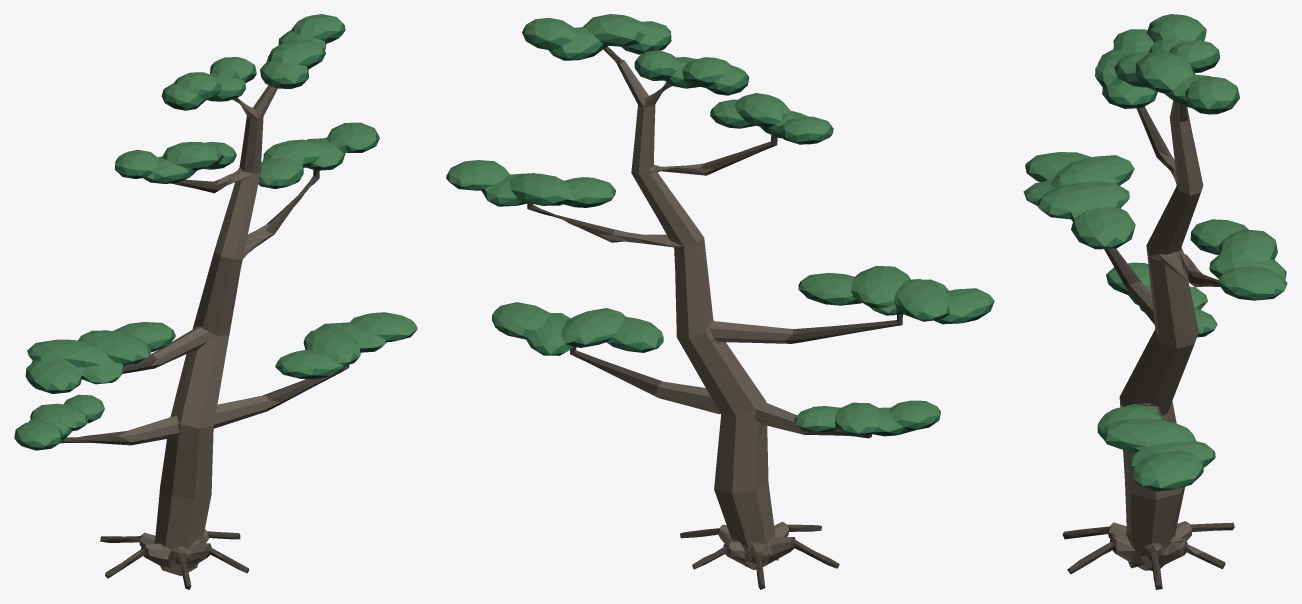
The model's file is ancient-pine-4128-lod0.glb.
The picture shows the model from 3 angles, left to right: view 1: azimuth 30°, elevation 25°; view 2: azimuth 150°, elevation 25°; view 3: azimuth 270°, elevation 25°; orthographic projection. The views are drawn at different scales.
Visible parts, largest first — view 1: n12.004, n8.004, n11.004, n9.004, n10.004; view 2: n12.004, n8.004, n11.004, n9.004, n10.004; view 3: n12.004, n8.004, n11.004, n9.004, n10.004.
Boxes of the visible parts, <box> form: n12.004: <box>16,14,417,445</box>; n8.004: <box>116,85,280,575</box>; n11.004: <box>14,23,415,448</box>; n9.004: <box>60,97,349,589</box>; n10.004: <box>16,33,417,450</box>; n12.004: <box>446,14,994,433</box>; n8.004: <box>594,61,809,569</box>; n11.004: <box>446,25,994,434</box>; n9.004: <box>527,46,902,589</box>; n10.004: <box>450,40,989,436</box>; n12.004: <box>1023,14,1286,487</box>; n8.004: <box>1101,101,1203,570</box>; n11.004: <box>1024,23,1287,488</box>; n9.004: <box>1062,106,1234,589</box>; n10.004: <box>1027,33,1283,491</box>.
Bounding box in the file's own units: 4.9 × 5.44 × 2.23.
